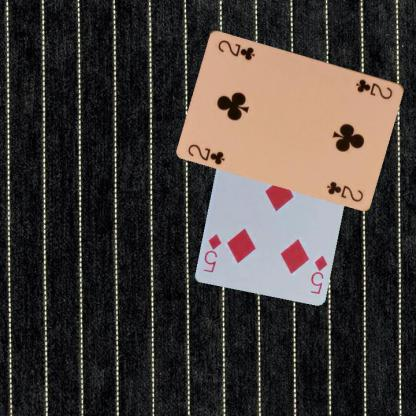2c: (353, 76, 394, 101), (186, 141, 226, 166)
5d: (308, 252, 328, 296)
